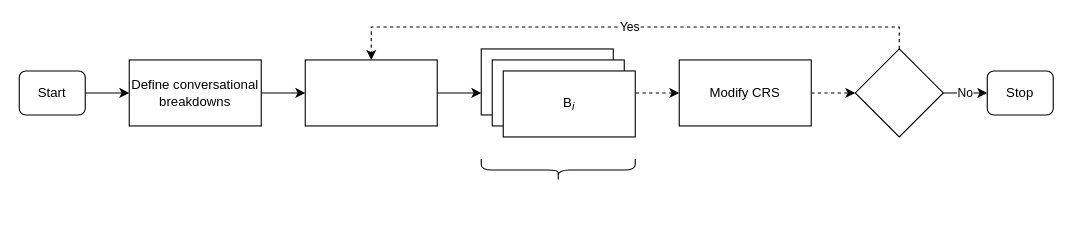
Image size: 1073x244. Some labels were removed from this diagram. Here are the shapes that lost their labels. From the top down, the centre of each, then its label:
At [370,92]: "Generate N conversations".
At [898,92]: "Restart".
At [557,169]: "Breakdown detection".
